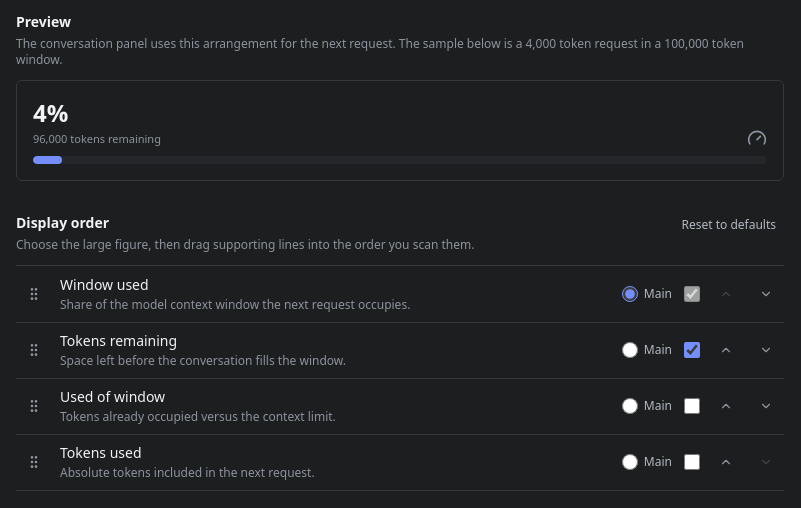
ContextPanelSettings › promotes remaining tokens in the live preview
Click the radio button with aria-label "Use Tokens remaining as the main context metric" at (630, 350), box [622, 342, 638, 358]
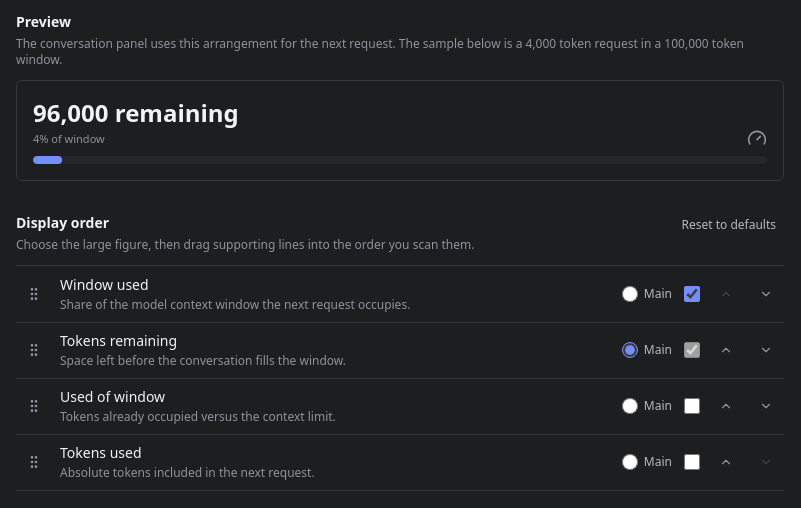
Now the text "96,000 remaining" is shown, box [33, 97, 239, 129]
Now the text "4% of window" is shown, box [33, 131, 105, 146]
